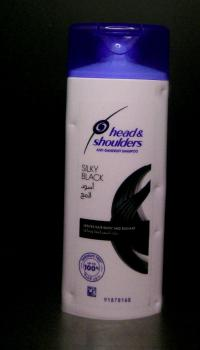dent_unacceptable: (66, 289, 83, 306), (67, 117, 81, 134), (148, 295, 162, 311), (151, 225, 164, 241), (152, 180, 164, 194), (157, 84, 169, 96)
